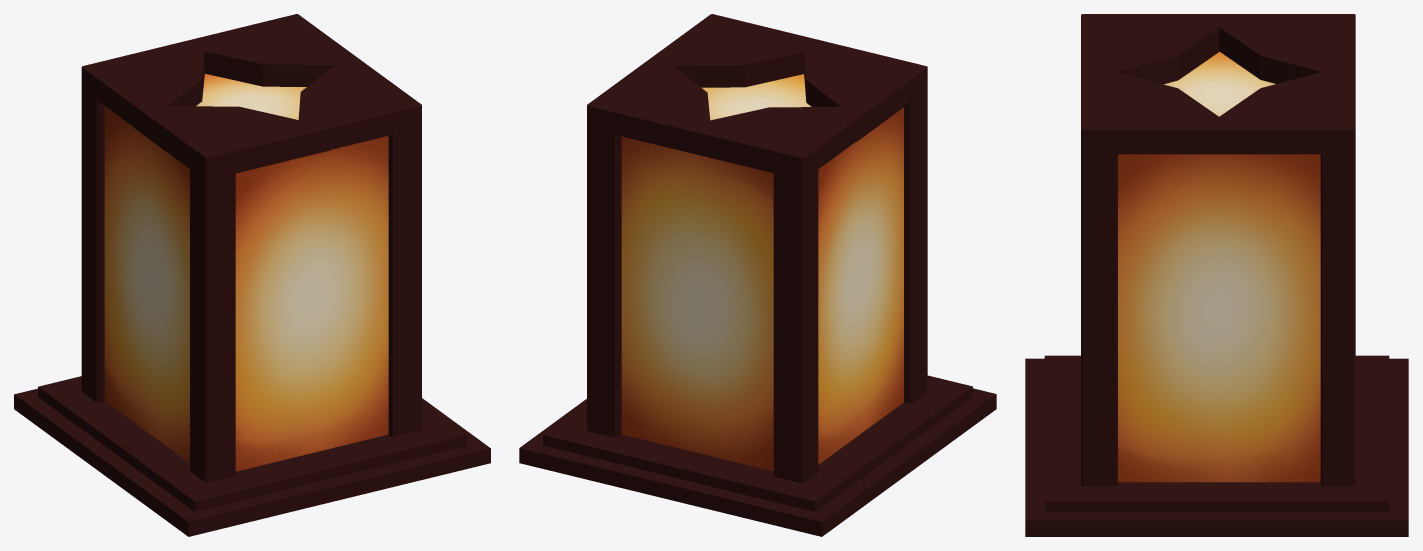
The model's file is LanternwLights.fbx.
The picture shows the model from 3 angles, left to right: view 1: azimuth 30°, elevation 25°; view 2: azimuth 150°, elevation 25°; view 3: azimuth 270°, elevation 25°; orthographic projection. The views are drawn at different scales.
Parts seen in each view (by area): view 1: LanternHolder, Lantern; view 2: LanternHolder, Lantern; view 3: LanternHolder, Lantern.
Part boxes in pixels (x1,y1,x2,y2): LanternHolder: [14, 14, 490, 536]; Lantern: [104, 74, 388, 471]; LanternHolder: [519, 14, 996, 536]; Lantern: [621, 74, 903, 471]; LanternHolder: [1025, 14, 1408, 536]; Lantern: [1118, 52, 1320, 482].
Size of the model in its own units: 13.96 by 15.44 by 13.96.
